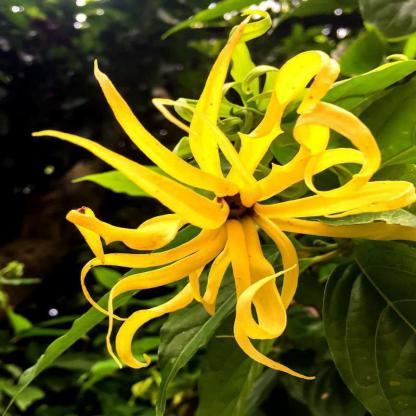Kenanga: (138, 91, 352, 350)
